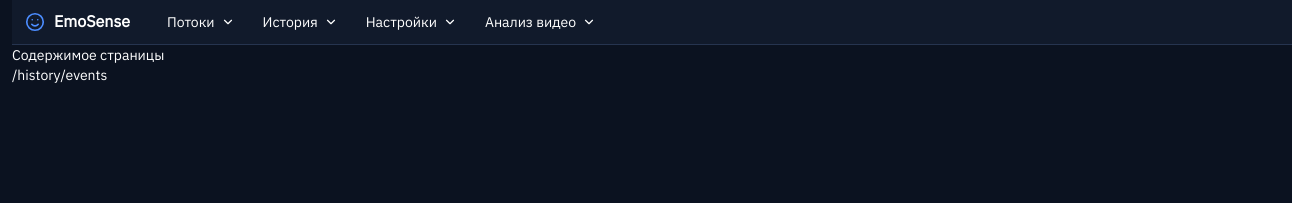
Toolbar menus › «Добавить поток» goes to the streams screen and opens the dialog
Click the button "Потоки" at (201, 22), box [154, 4, 248, 40]
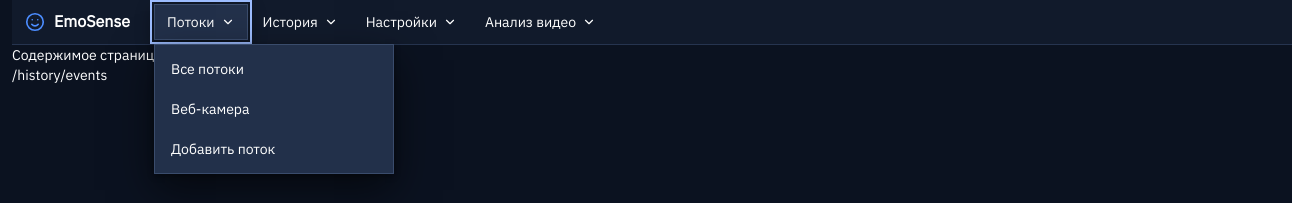
Click the menu item "Добавить поток" at (274, 149), box [159, 129, 389, 169]
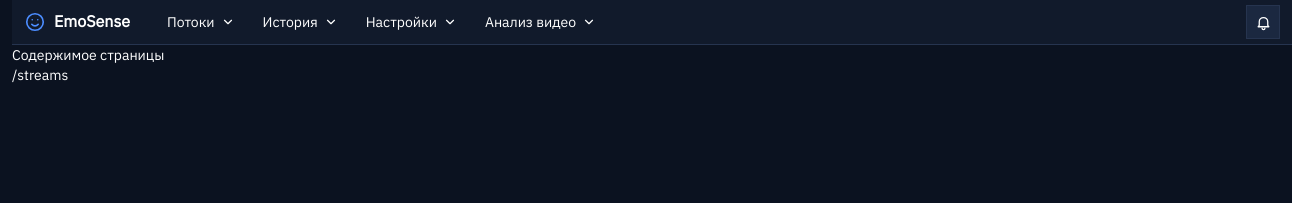
Expected: the menu is gone
Expected: the text with test id "where" reads "/streams", [12, 66, 68, 84]
